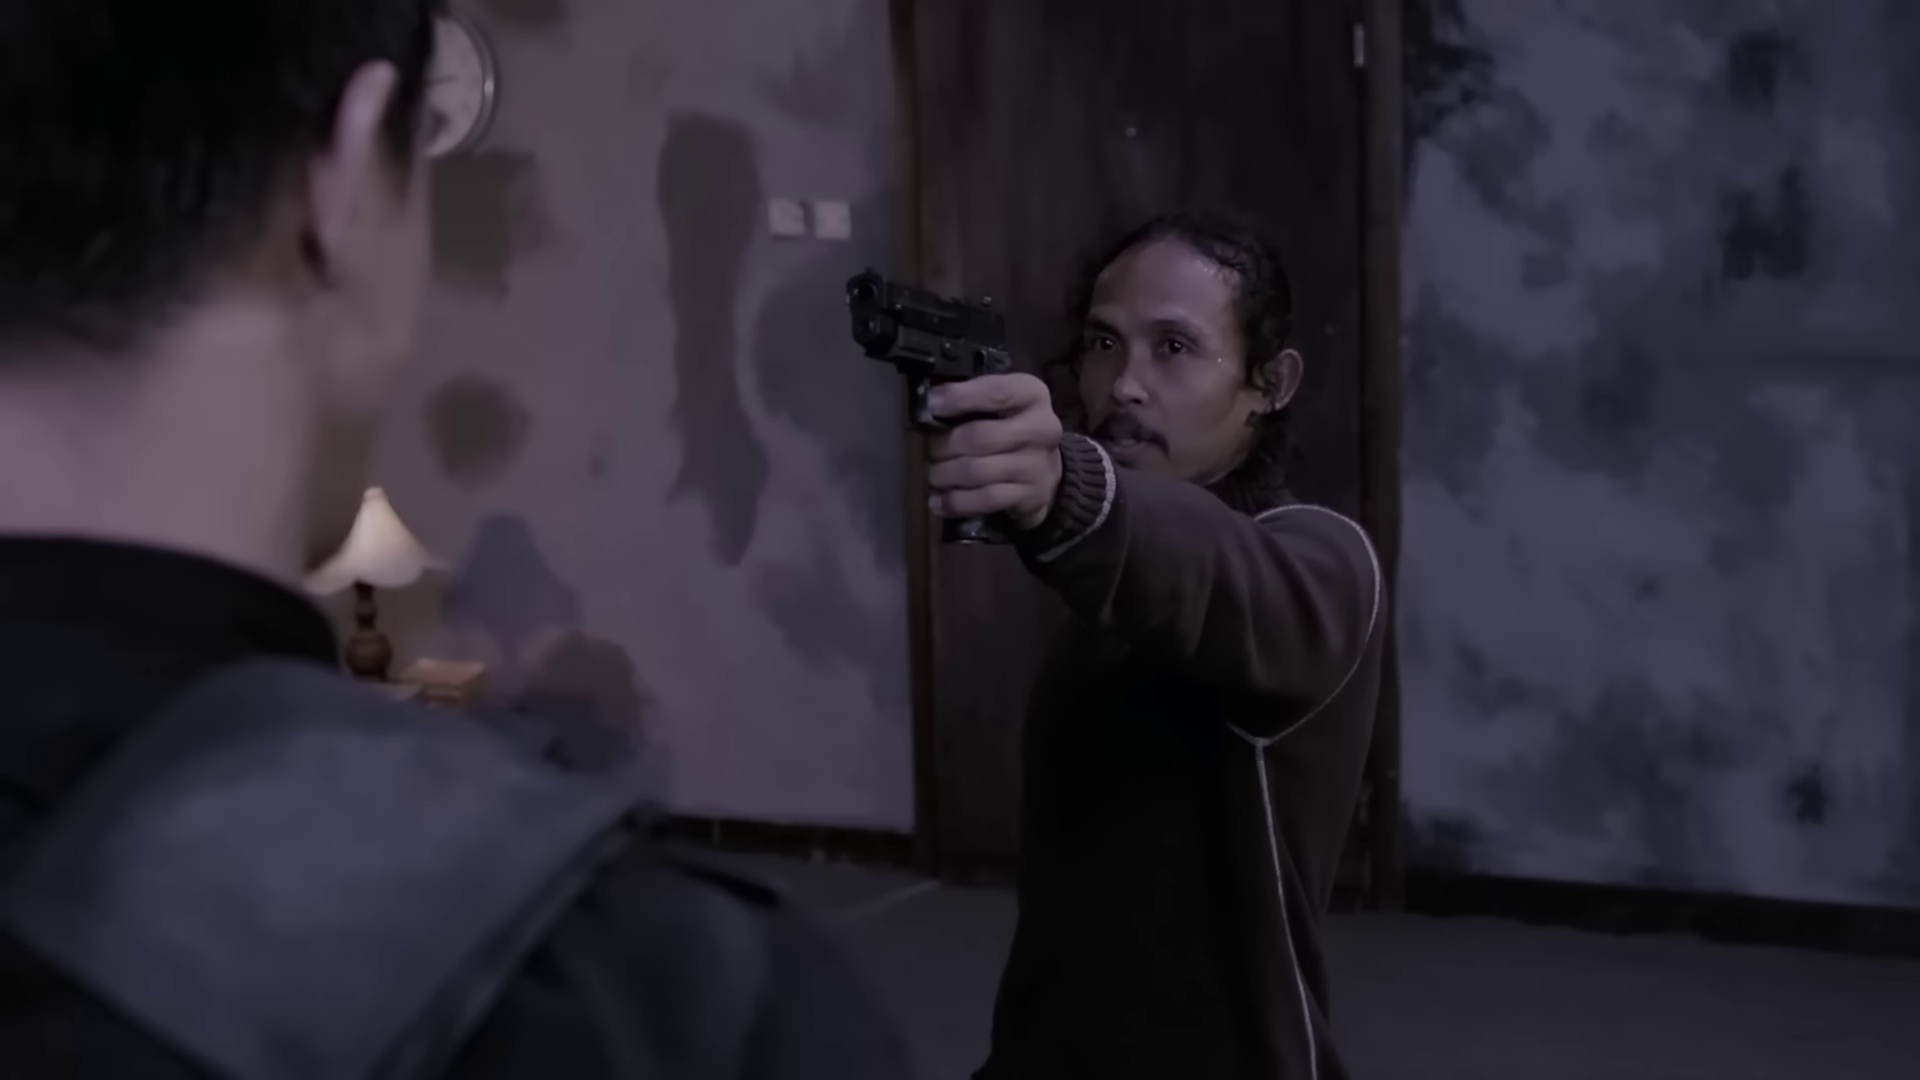gun: (837, 262, 1039, 560)
p_w_gun: (831, 200, 1395, 1080)
p_wo_gun_not_carrying_normal_pose: (0, 0, 903, 1080)
